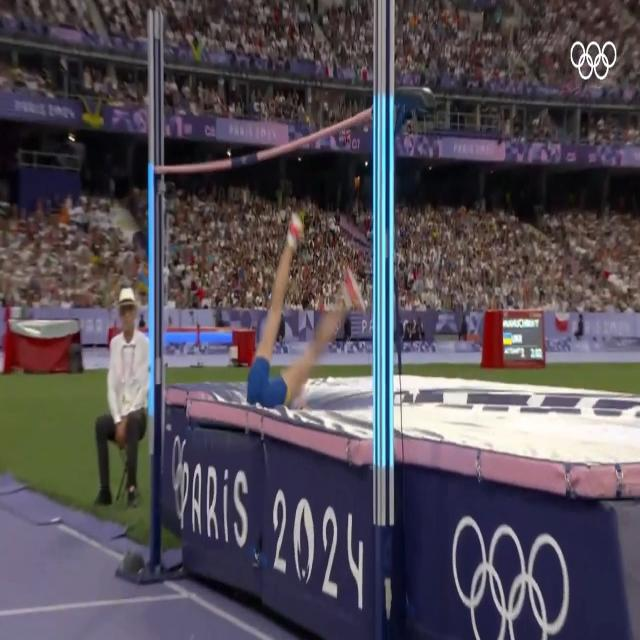land: (246, 212, 362, 412)
